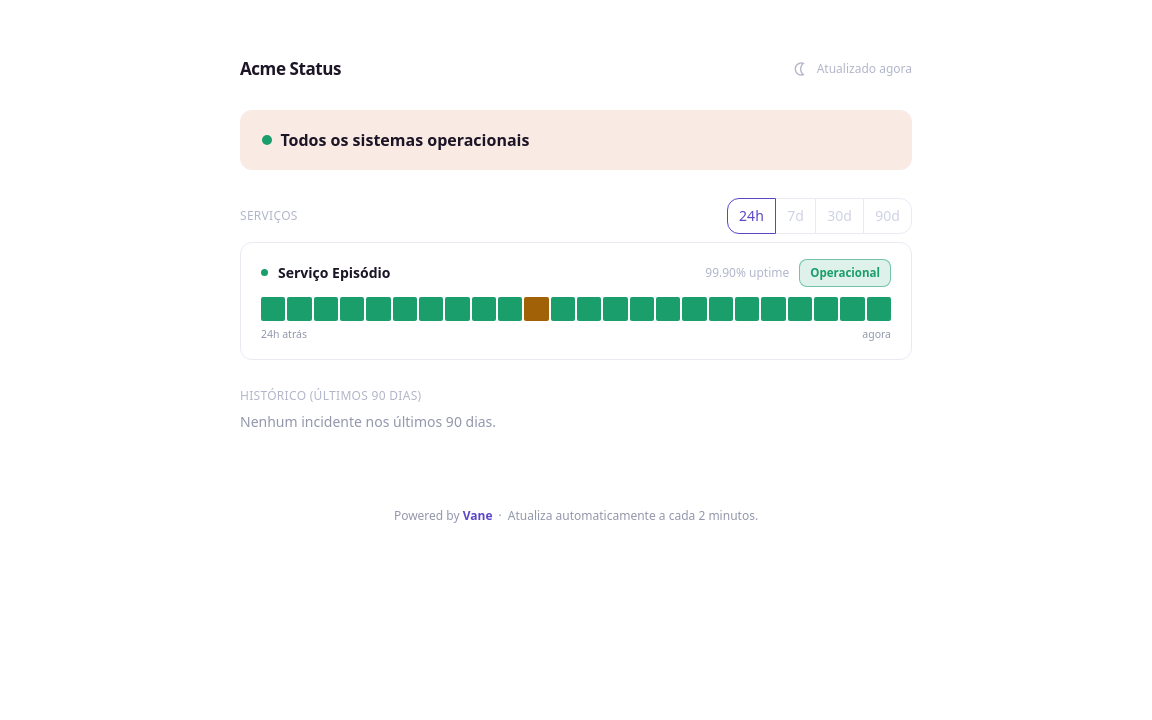
Test case: PublicStatusPage › clicking a bar with a degraded episode opens a popover with the reason
The image size is (1152, 720).
Expected: the text "Latência elevada no checkout." is not shown
Click the button with test id "^hourly-bar-Serviço Episódio-\\d+$" at (536, 309), box [524, 297, 549, 321]
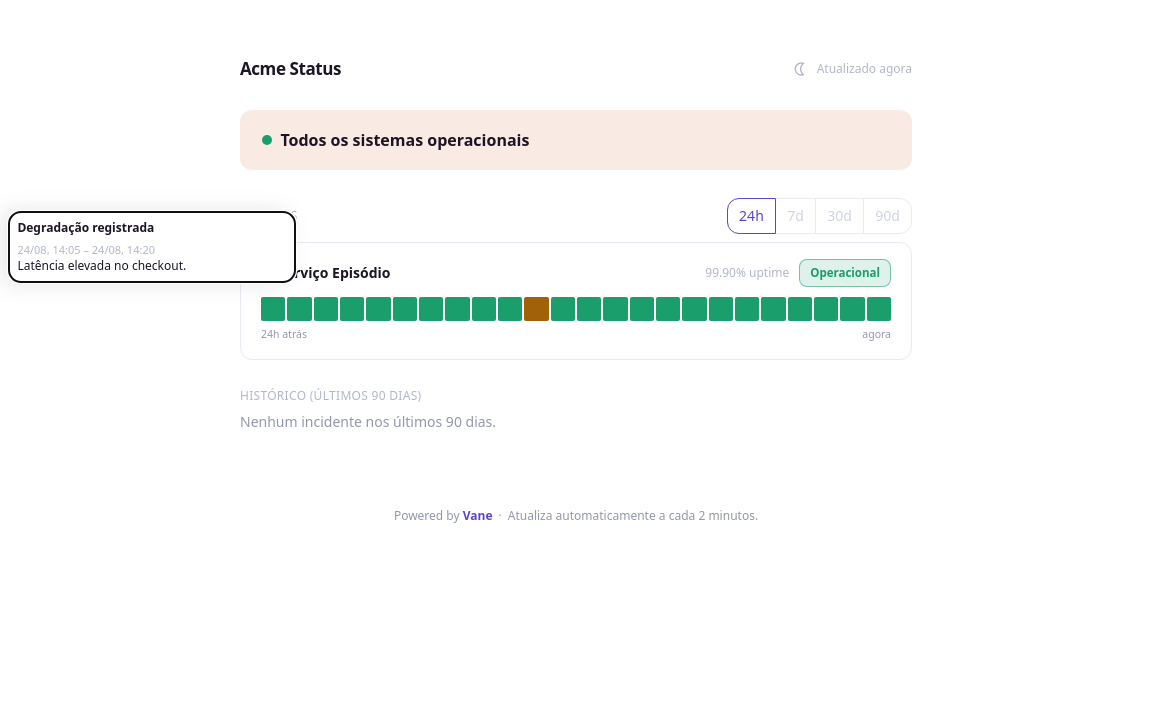
Expected: the text "Latência elevada no checkout." is shown, [17, 257, 186, 274]
